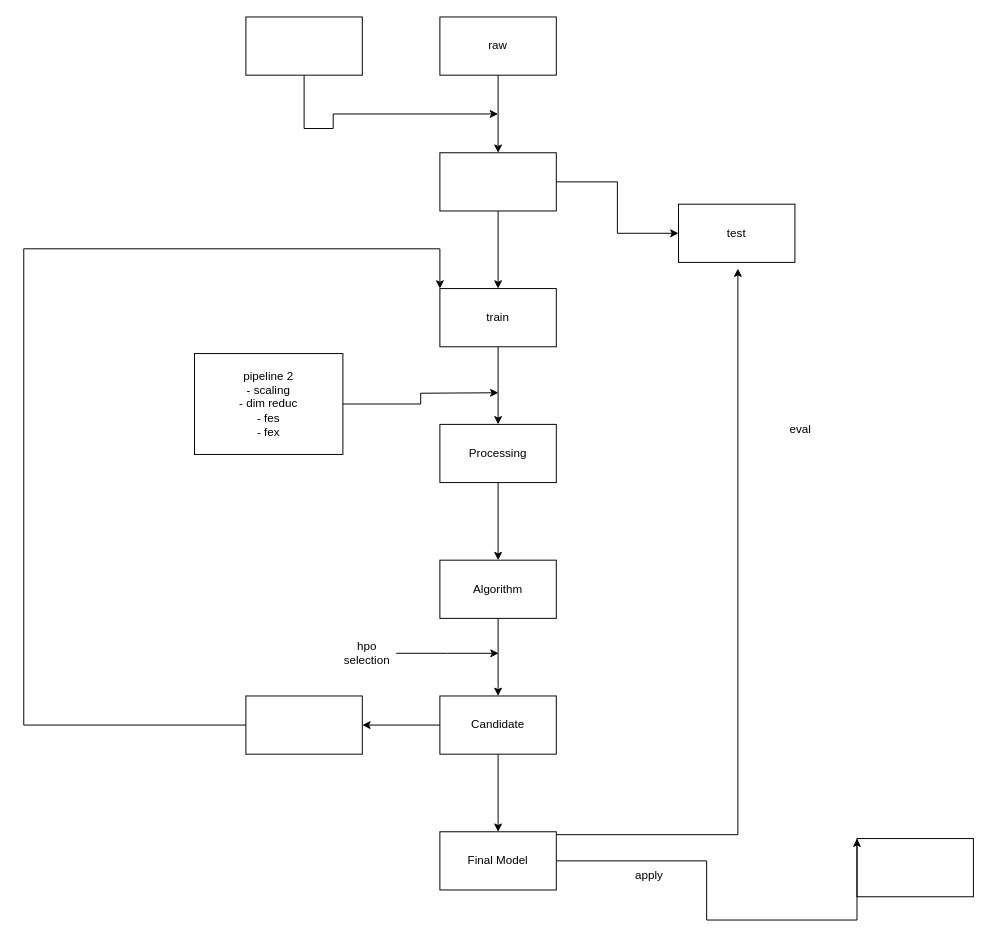
The diagram is 990 pixels wide and 945 high, and some of its shapes have lost their labels. The centre of each missing label's shape, as x and y in pixels:
dataset: (497,181)
interate e validate (cross-val): (303,724)
new data: (914,867)
pipeline 1 - missing values - init fes: (303,45)
